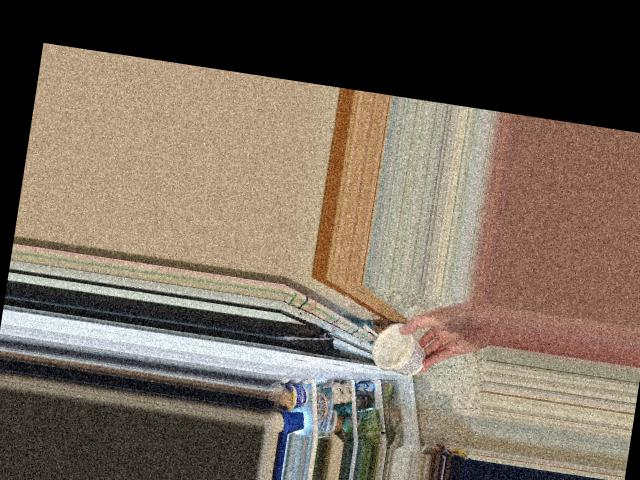cotage: (371, 314, 434, 377)
